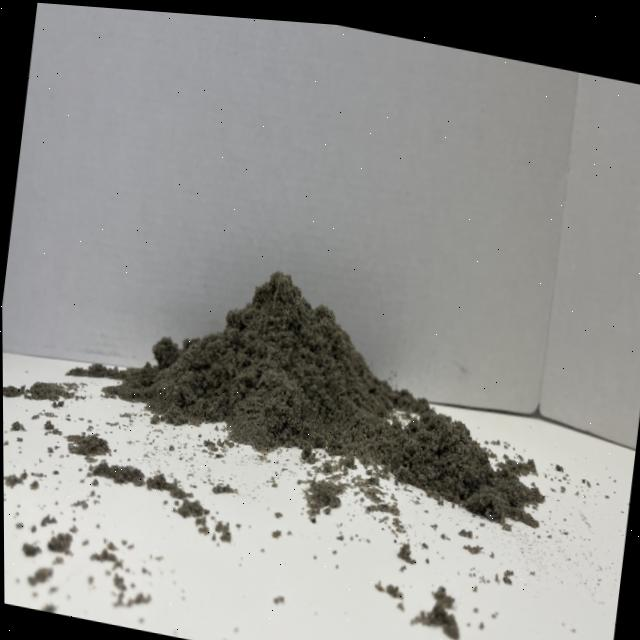sand: (126, 217, 498, 521)
